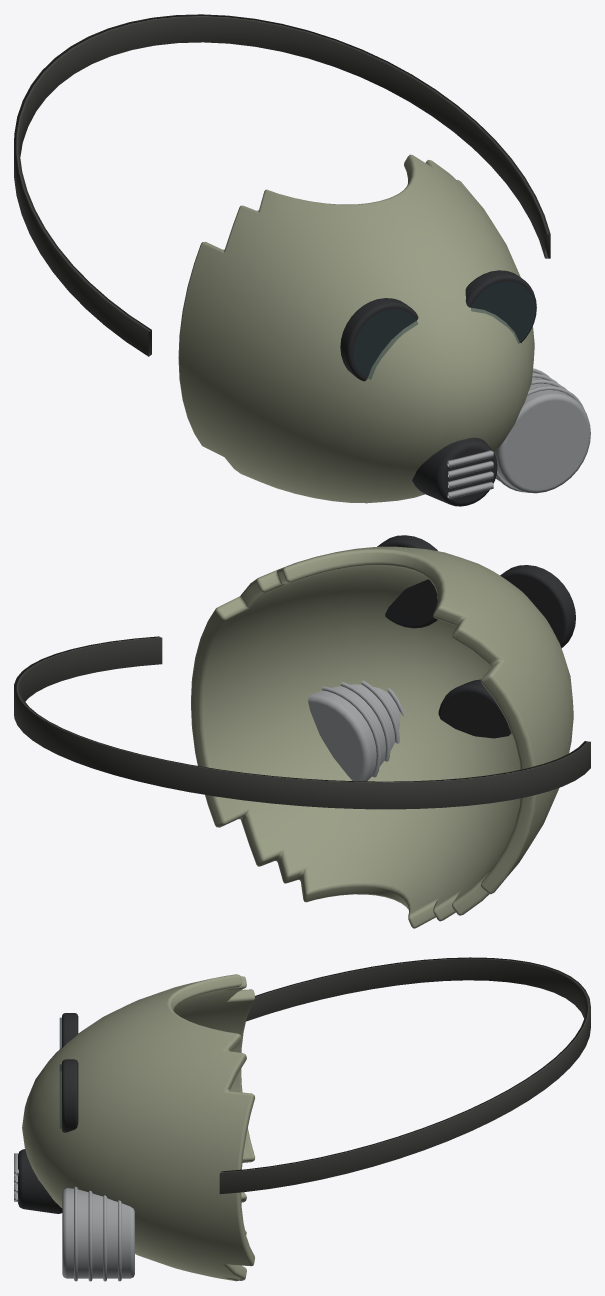
The model's file is mask_gas_T.glb.
3 renders of one model, top to bottom at view 1: azimuth 30°, elevation 25°; view 2: azimuth 150°, elevation 25°; view 3: azimuth 270°, elevation 25°, orthographic. The views are drawn at different scales.
Parts seen in each view (by area): view 1: mask@Head; view 2: mask@Head; view 3: mask@Head.
Boxes of the visible parts, x1,y1,x2,y2 form: mask@Head: (14,14,590,506); mask@Head: (14,535,590,928); mask@Head: (14,957,590,1281).
Bounding box in the file's own units: 0.2659 × 0.1751 × 0.356.
